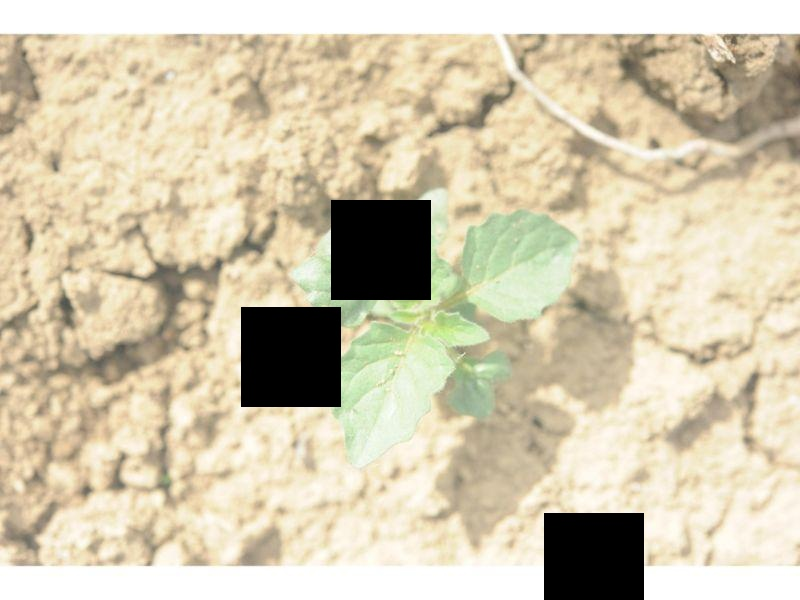nightshade: (296, 187, 581, 472)
